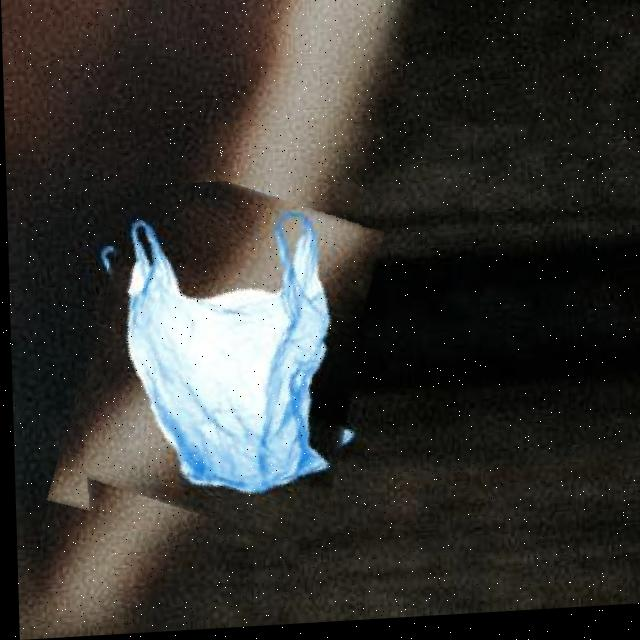litter: (58, 178, 367, 560)
